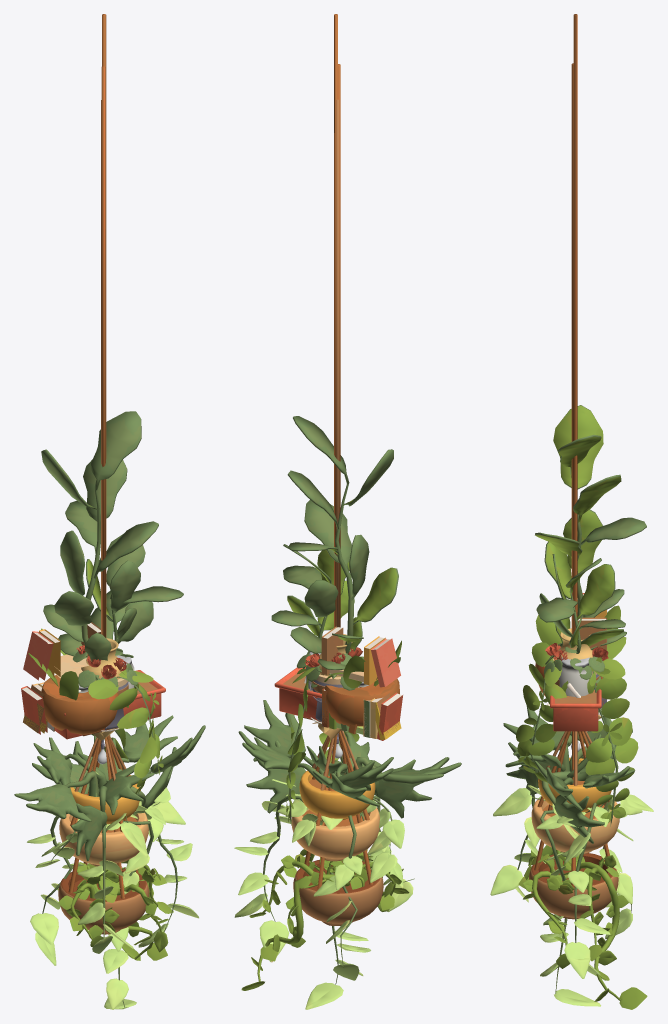
The model's file is shop_decorations.fbx.
3 renders of one model, left to right at view 1: azimuth 30°, elevation 25°; view 2: azimuth 150°, elevation 25°; view 3: azimuth 270°, elevation 25°, orthographic.
Parts seen in each view (by area): view 1: shop_plant_pot_big, shop_plant_dripping_02, shop_plant_dripping_03, shop_plant_dripping_04, shop_plant_dripping, shop_books_filler, shop_planter_01, shop_flower_bucket, shop_plant_pilea, shop_plant_vase; view 2: shop_plant_dripping_02, shop_plant_dripping_03, shop_plant_pot_big, shop_plant_dripping_04, shop_plant_dripping, shop_books_filler, shop_planter_01, shop_books_filler.05, shop_flower_bucket; view 3: shop_plant_dripping_02, shop_plant_pot_big, shop_plant_dripping_04, shop_plant_dripping, shop_plant_dripping_03, shop_planter_01, shop_bocals_occult, shop_plant_pilea, shop_books_filler, shop_plant_vase, shop_flower_bucket.
Boxes of the visible parts, x1=… form: shop_plant_pot_big: x1=41, y1=411, x2=183, y2=661; shop_plant_dripping_02: x1=27, y1=14, x2=198, y2=1009; shop_plant_dripping_03: x1=14, y1=100, x2=205, y2=861; shop_plant_dripping_04: x1=58, y1=66, x2=173, y2=960; shop_plant_dripping: x1=28, y1=628, x2=163, y2=794; shop_books_filler: x1=21, y1=622, x2=100, y2=734; shop_planter_01: x1=55, y1=670, x2=165, y2=739; shop_flower_bucket: x1=76, y1=645, x2=128, y2=729; shop_plant_pilea: x1=73, y1=648, x2=138, y2=687; shop_plant_vase: x1=81, y1=638, x2=122, y2=680; shop_plant_dripping_02: x1=234, y1=14, x2=414, y2=1009; shop_plant_dripping_03: x1=238, y1=99, x2=461, y2=819; shop_plant_pot_big: x1=271, y1=416, x2=398, y2=674; shop_plant_dripping_04: x1=241, y1=64, x2=409, y2=990; shop_plant_dripping: x1=286, y1=640, x2=401, y2=825; shop_books_filler: x1=321, y1=626, x2=402, y2=740; shop_planter_01: x1=274, y1=667, x2=321, y2=720; shop_books_filler.05: x1=322, y1=689, x2=401, y2=739; shop_flower_bucket: x1=305, y1=647, x2=362, y2=721; shop_plant_dripping_02: x1=490, y1=14, x2=653, y2=1006; shop_plant_pot_big: x1=535, y1=405, x2=646, y2=653; shop_plant_dripping_04: x1=518, y1=63, x2=647, y2=1009; shop_plant_dripping: x1=516, y1=605, x2=638, y2=826; shop_plant_dripping_03: x1=503, y1=706, x2=634, y2=843; shop_planter_01: x1=550, y1=689, x2=601, y2=731; shop_bocals_occult: x1=559, y1=657, x2=591, y2=696; shop_plant_pilea: x1=544, y1=643, x2=604, y2=683; shop_books_filler: x1=577, y1=593, x2=606, y2=650; shop_plant_vase: x1=554, y1=628, x2=592, y2=659; shop_flower_bucket: x1=545, y1=643, x2=608, y2=711.
Bounding box in the file's own units: 176 × 838 × 126.
